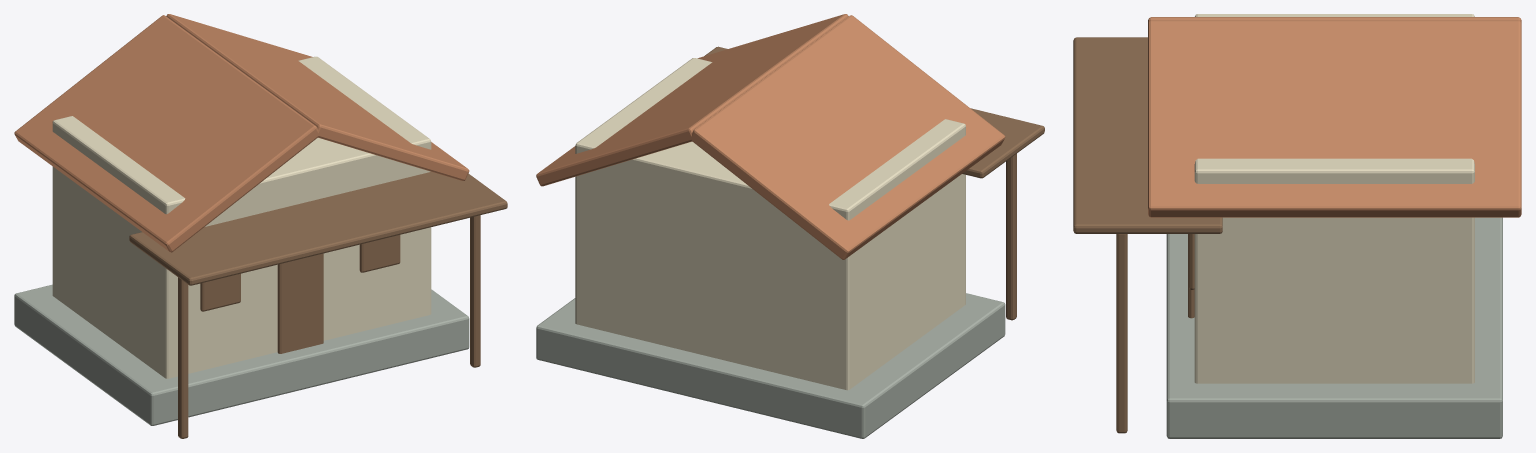
File: coastal-house.glb
3 renders of one model, left to right at view 1: azimuth 30°, elevation 25°; view 2: azimuth 150°, elevation 25°; view 3: azimuth 270°, elevation 25°, orthographic. The views are drawn at different scales.
Parts seen in each view (by area): view 1: porch canopy; view 2: porch canopy; view 3: porch canopy.
Part boxes in pixels (x1,y1,x2,y2): porch canopy: (14, 14, 507, 438); porch canopy: (536, 14, 1044, 438); porch canopy: (1073, 14, 1521, 438).
Size of the model in its own units: 12 by 9.65 by 12.
